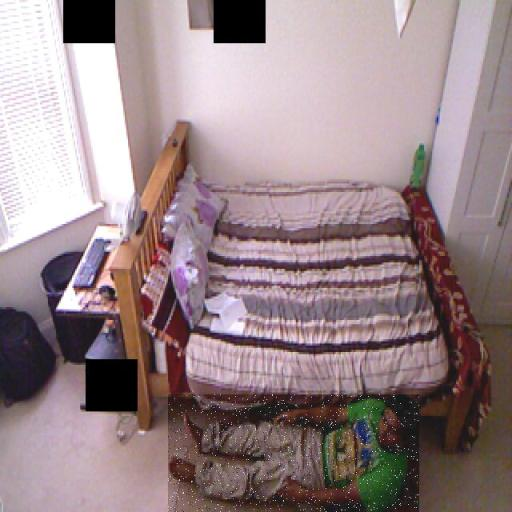Fall: (168, 394, 419, 512)
